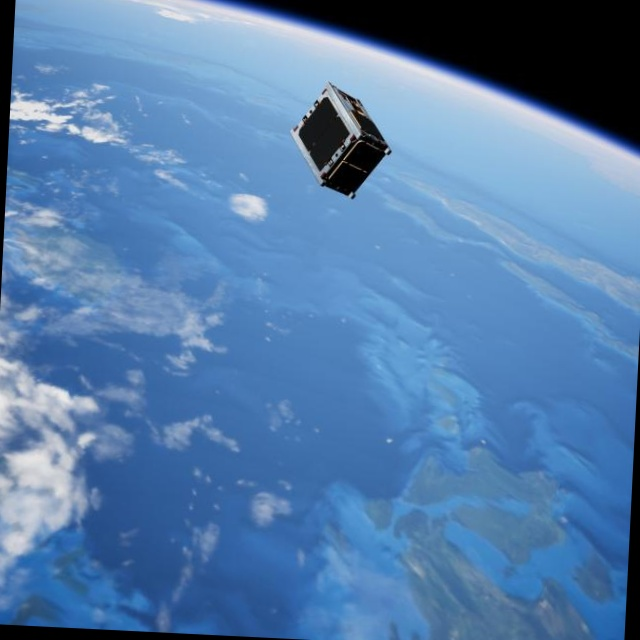medium_debris: (289, 84, 396, 199)
